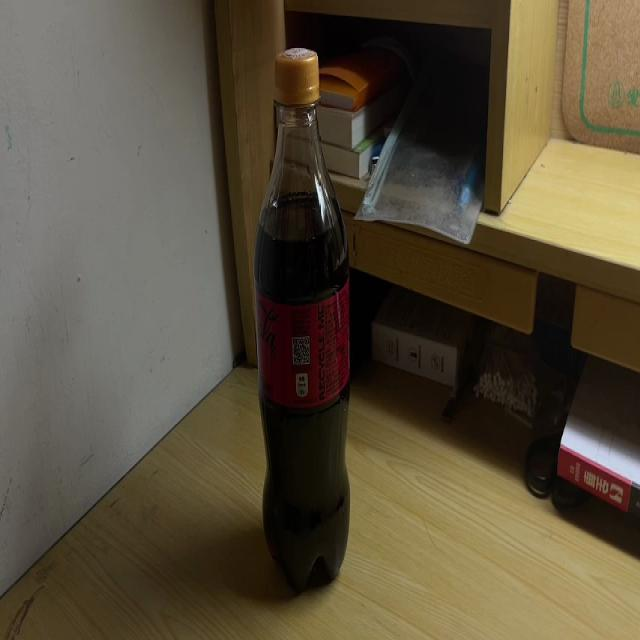Coca-Cola: (253, 45, 353, 593)
